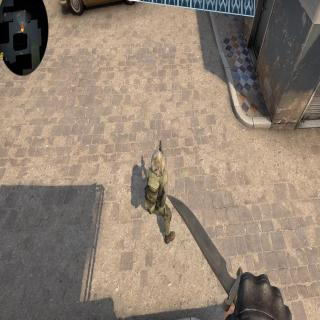CT-Body: (144, 141, 175, 242)
CT-Head: (150, 147, 166, 175)
